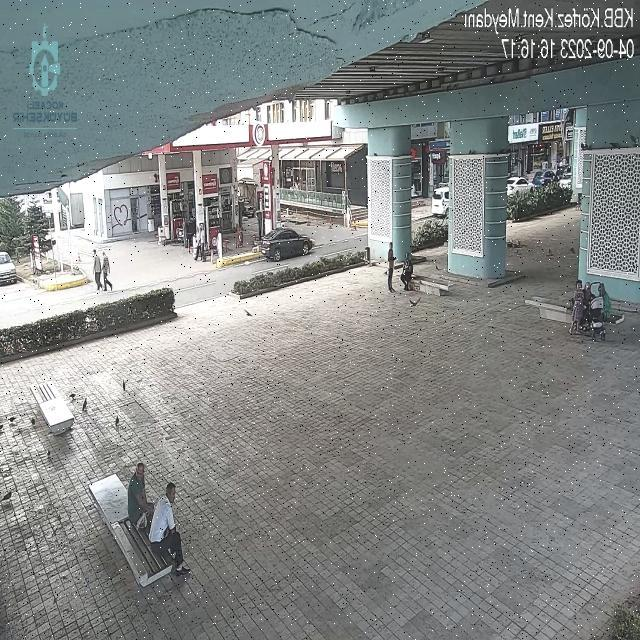Car: (257, 224, 313, 262), (508, 174, 538, 200), (532, 170, 561, 188)
Van: (431, 185, 451, 218)
